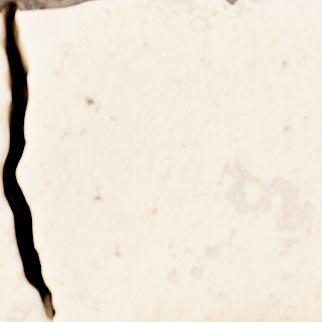brick: (0, 0, 321, 321)
crack: (0, 1, 55, 319)
